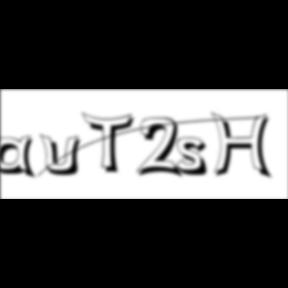2: (137, 117, 187, 181)
H: (211, 112, 277, 182)
T: (82, 112, 140, 176)
a: (0, 135, 40, 182)
s: (176, 137, 216, 179)
u: (40, 132, 88, 178)
